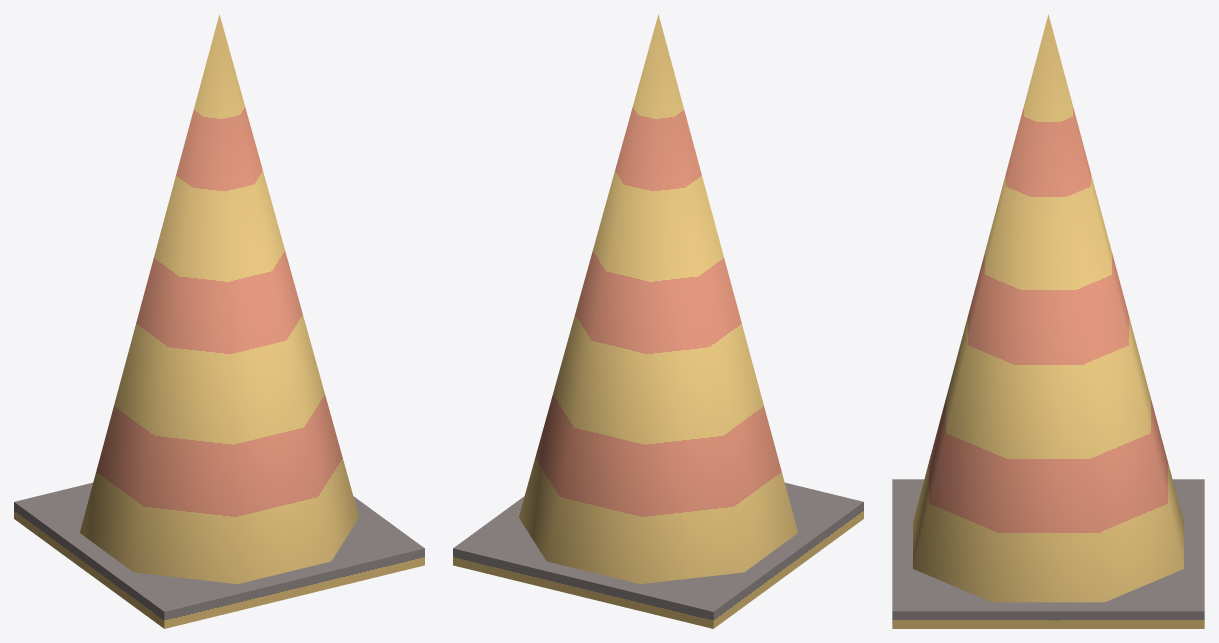
The model's file is 011a_Kiddie_Pylon.glb.
3 views of the same model, side by side, from view 1: azimuth 30°, elevation 25°; view 2: azimuth 150°, elevation 25°; view 3: azimuth 270°, elevation 25° (orthographic). The views are drawn at different scales.
Parts seen in each view (by area): view 1: part_0; view 2: part_0; view 3: part_0.
Part boxes in pixels (bbox=[...]): part_0: bbox=[14, 14, 424, 628]; part_0: bbox=[453, 14, 863, 628]; part_0: bbox=[892, 14, 1204, 628].
Size of the model in its own units: 0.129 by 0.25 by 0.129.
Materials: 1 (1 with a texture image).
